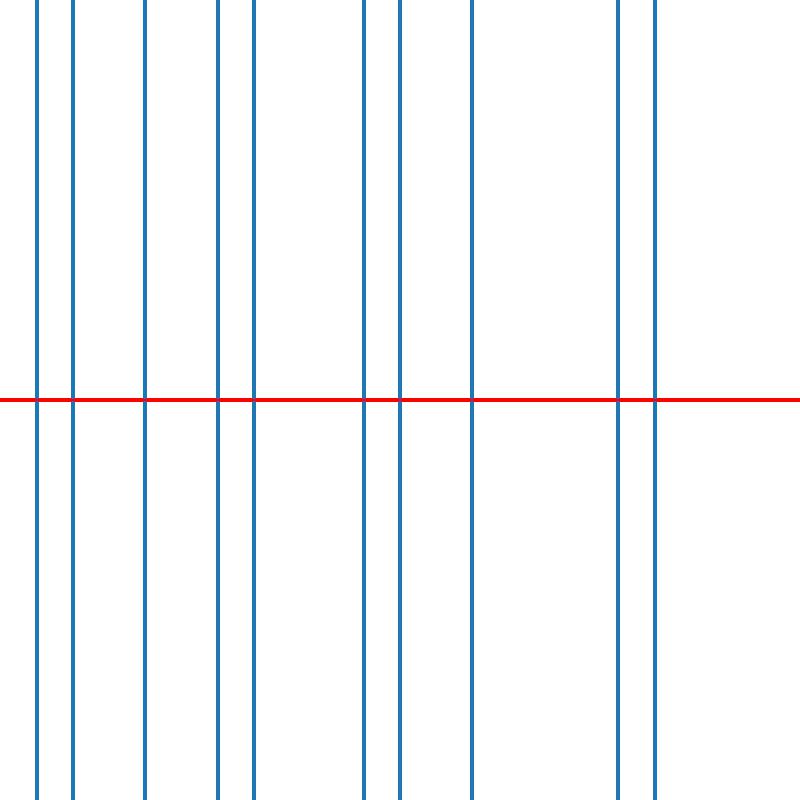root: (650, 396, 658, 404), (141, 396, 149, 404), (32, 396, 40, 404), (250, 396, 258, 404), (396, 396, 403, 404), (69, 396, 76, 404), (614, 396, 621, 404), (469, 396, 476, 404), (360, 396, 367, 404), (214, 396, 221, 404)
